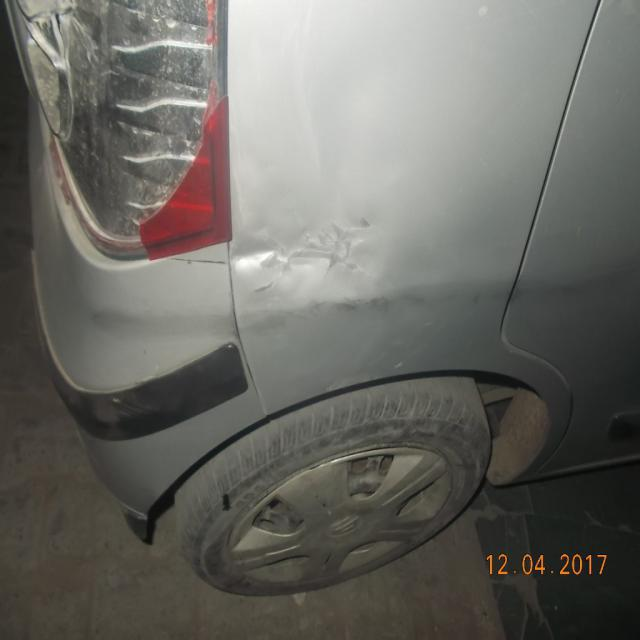quaterpanel-dent: (223, 0, 518, 442)
